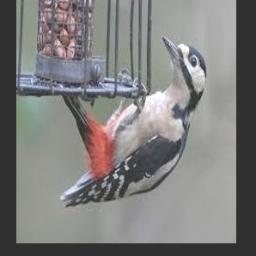Woodpecker: (60, 36, 207, 208)
